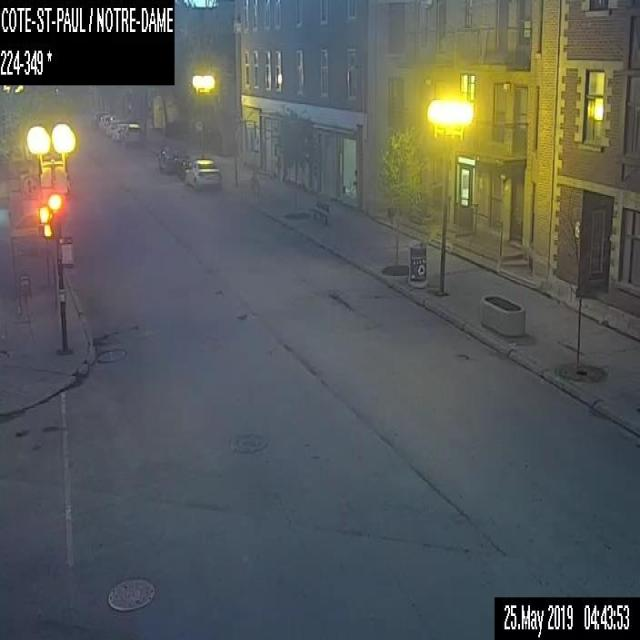vehicle: (184, 157, 220, 191), (156, 146, 188, 172), (120, 122, 141, 148), (90, 111, 108, 128), (98, 114, 115, 131), (110, 122, 122, 142), (104, 120, 112, 133)
